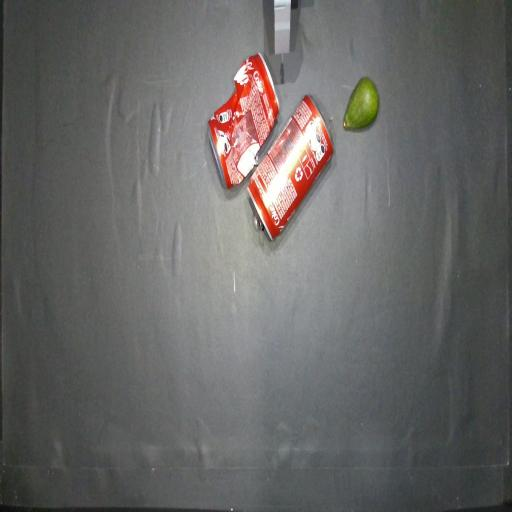higo: (343, 77, 379, 130)
lata: (247, 95, 333, 239)
lata_defectuoso: (208, 53, 279, 189)
